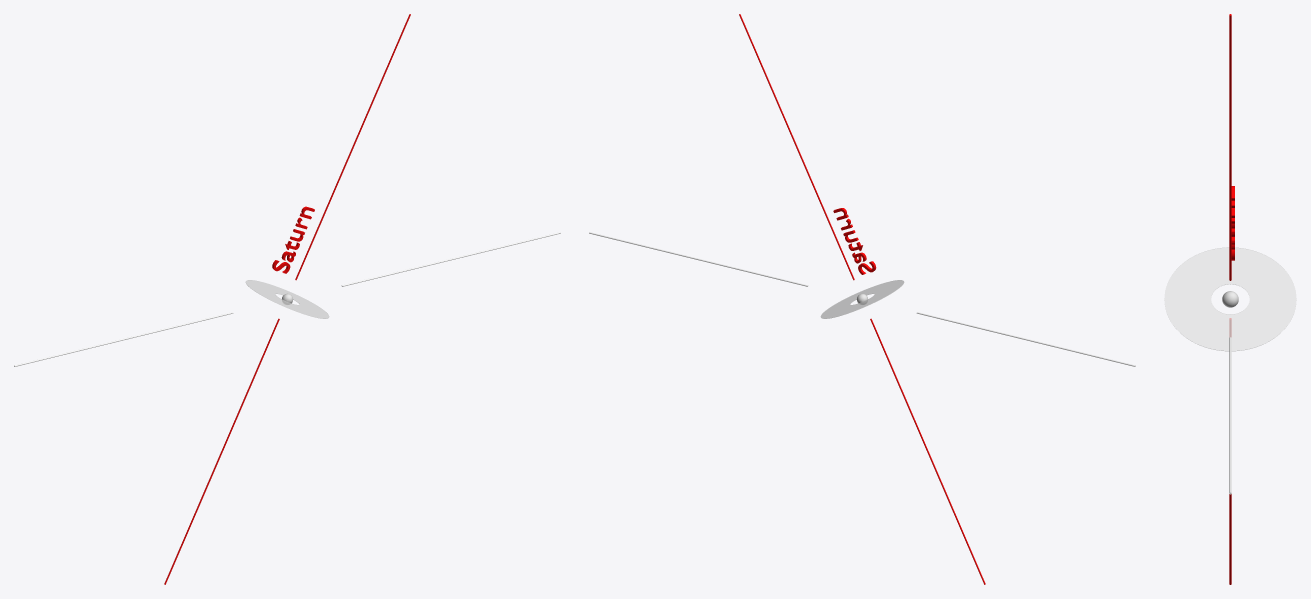
Rendered from saturnus.glb.
The picture shows the model from 3 angles, left to right: view 1: azimuth 30°, elevation 25°; view 2: azimuth 150°, elevation 25°; view 3: azimuth 270°, elevation 25°; orthographic projection. The views are drawn at different scales.
Parts seen in each view (by area): view 1: Cylinder; view 2: Cylinder; view 3: Cylinder, Cylinder.002, Cylinder.004, Cylinder.001, Text, Sphere.
Boxes of the visible parts, x1,y1,x2,y2 form: Cylinder: [245, 280, 329, 318]; Cylinder: [820, 280, 904, 318]; Cylinder: [1164, 247, 1296, 351]; Cylinder.002: [1229, 14, 1231, 280]; Cylinder.004: [1229, 337, 1231, 494]; Cylinder.001: [1229, 318, 1231, 584]; Text: [1231, 186, 1234, 260]; Sphere: [1222, 291, 1238, 307].
Bounding box in the file's own units: 2 × 1.79 × 0.2876.
